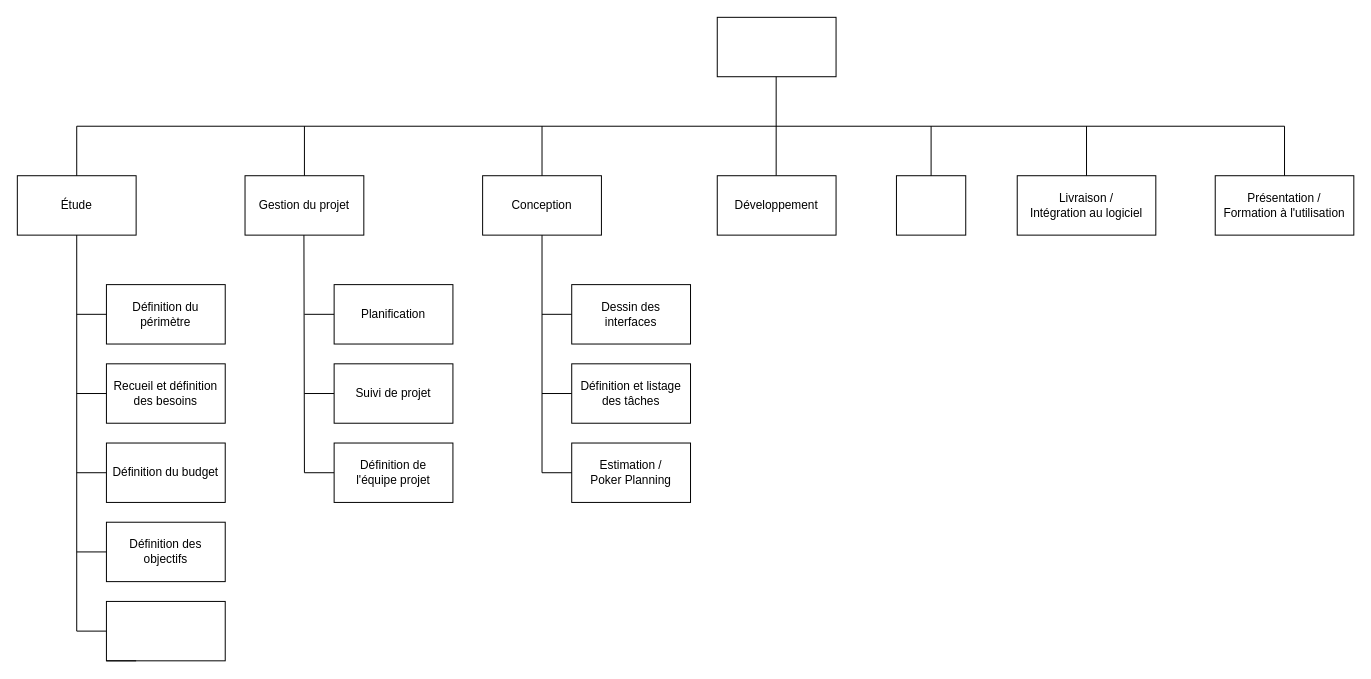
The diagram is 1371 pixels wide and 679 high, and some of its shapes have lost their labels. Here are the shapes that lost their labels. From the top down, the centre of each, then its label:
point (776, 46): Ajout de la fonctionnalité
point (930, 205): Tests
point (165, 630): Définition des contraintes
